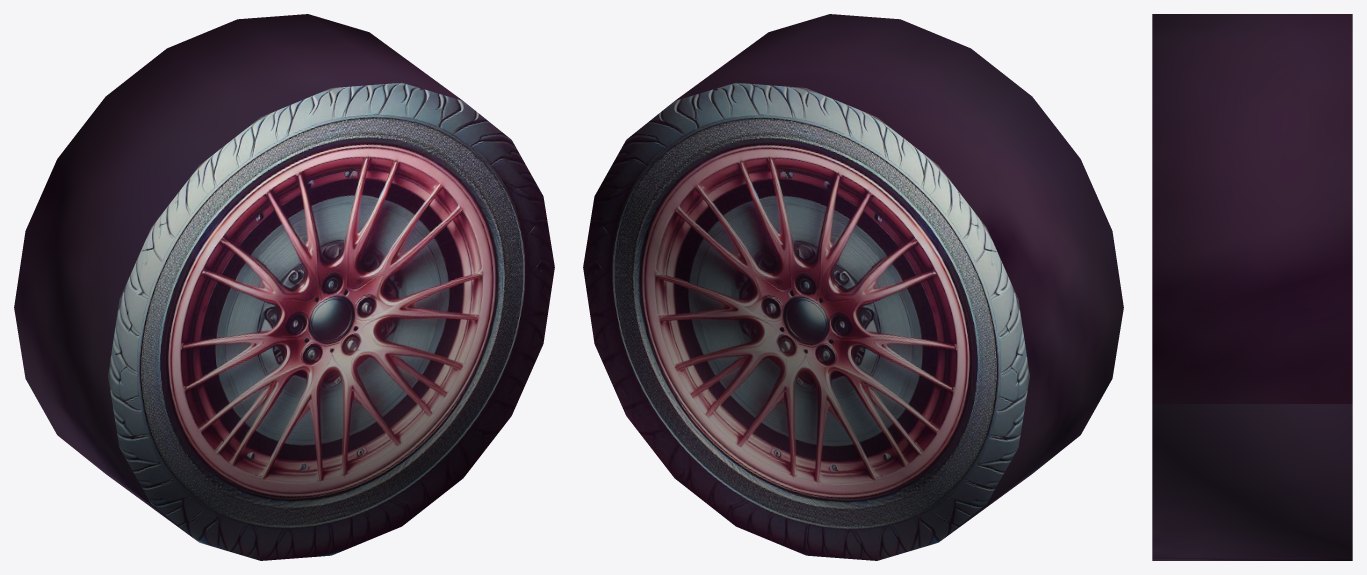
Rendered from LlantaDI.obj.
3 renders of one model, left to right at view 1: azimuth 30°, elevation 25°; view 2: azimuth 150°, elevation 25°; view 3: azimuth 270°, elevation 25°, orthographic. The views are drawn at different scales.
Parts seen in each view (by area): view 1: LlantaDD; view 2: LlantaDD; view 3: LlantaDD.
Boxes of the visible parts, x1,y1,x2,y2 form: LlantaDD: (14, 14, 554, 560); LlantaDD: (583, 14, 1123, 560); LlantaDD: (1152, 14, 1352, 560).
Size of the model in its own units: 7.28 by 7.28 by 2.65.
1 material, 1 textured.
